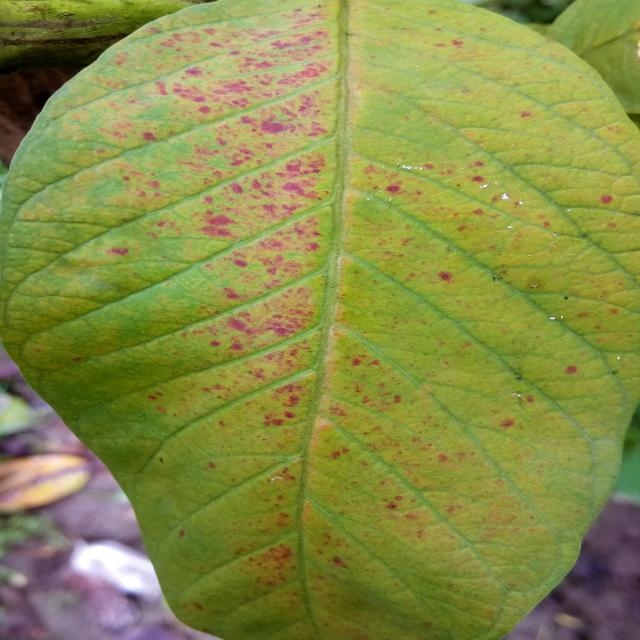Red Rust: (2, 0, 638, 640)
